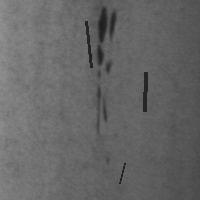inclusion: (91, 43, 112, 140), (94, 2, 119, 44), (84, 19, 93, 69), (117, 161, 126, 185), (142, 70, 147, 113)
